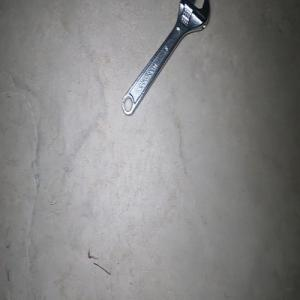Wrench: (121, 0, 210, 116)
